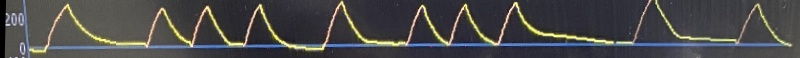normal_volume: (32, 0, 800, 54)
